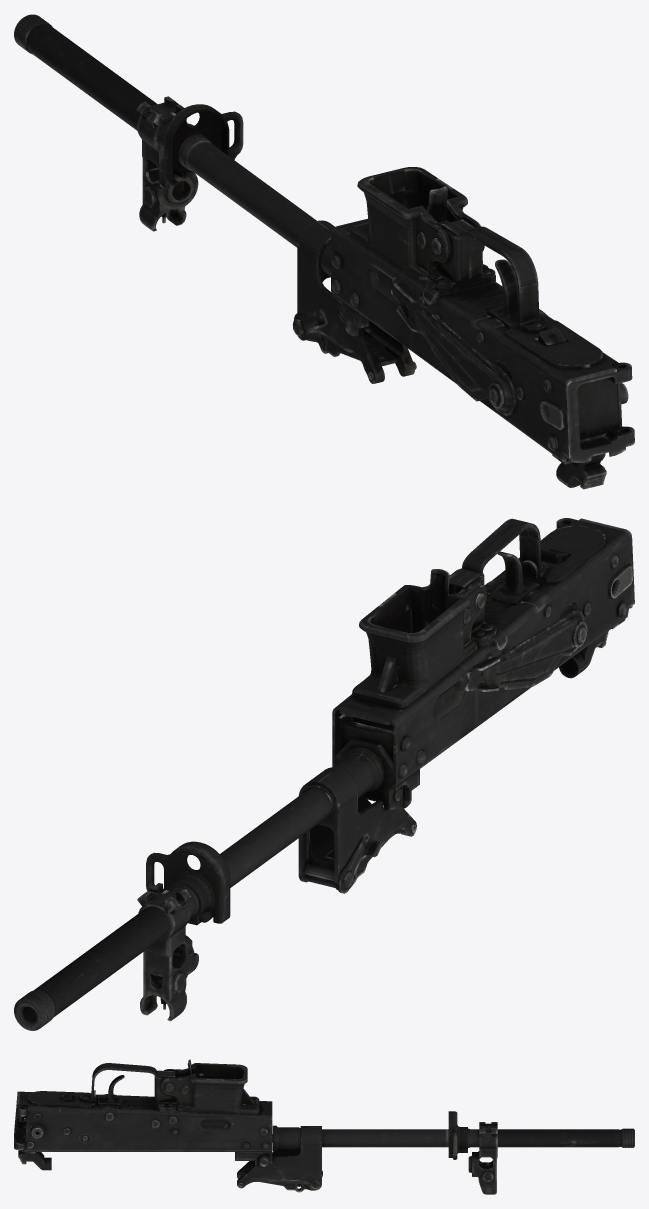
The picture shows the model from 3 angles, top to bottom: view 1: azimuth 30°, elevation 25°; view 2: azimuth 150°, elevation 25°; view 3: azimuth 270°, elevation 25°; orthographic projection. The views are drawn at different scales.
Parts seen in each view (by area): view 1: TW_59f9cabd86f7743a10721f46_PZ_Import; view 2: TW_59f9cabd86f7743a10721f46_PZ_Import; view 3: TW_59f9cabd86f7743a10721f46_PZ_Import.
Part boxes in pixels (left/top/right/bottom): TW_59f9cabd86f7743a10721f46_PZ_Import: left=14, top=14, right=634, bottom=489; TW_59f9cabd86f7743a10721f46_PZ_Import: left=14, top=518, right=634, bottom=1030; TW_59f9cabd86f7743a10721f46_PZ_Import: left=14, top=1059, right=634, bottom=1194.
Bounding box in the file's own units: 0.0289 × 0.3124 × 0.0722.
Materials: 1 (1 with a texture image).
